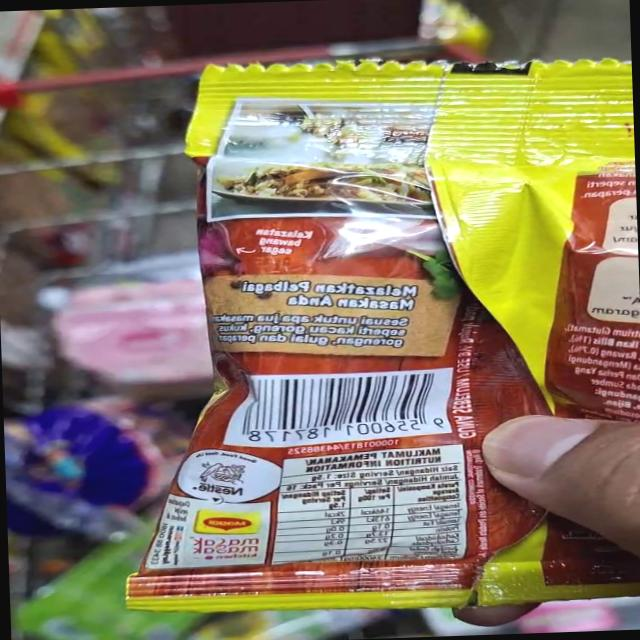Maggi Cukup Rasa: (101, 51, 640, 615)
